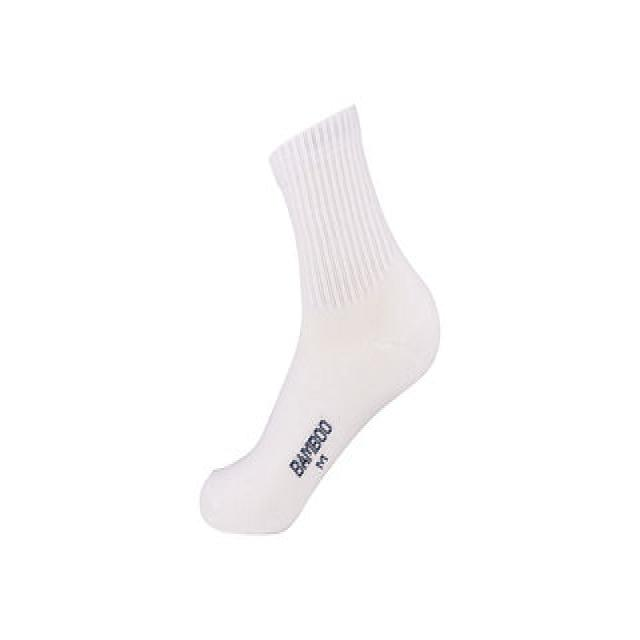sock: (199, 102, 440, 534)
